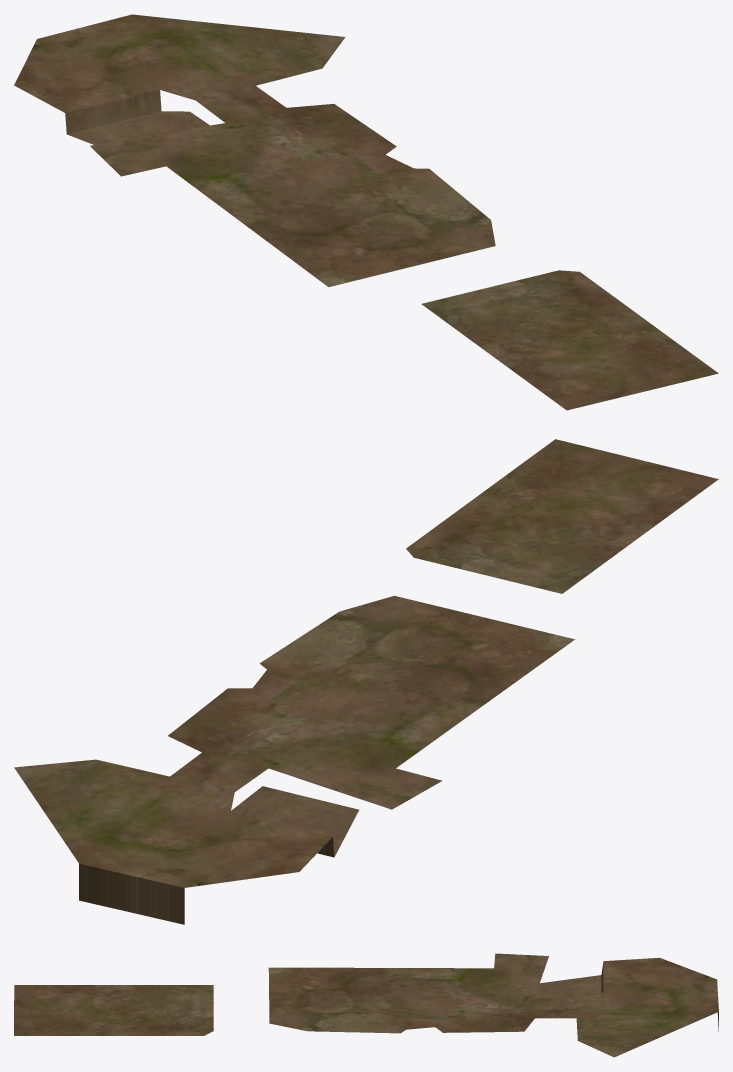
File: terrain_husong.FBX
The picture shows the model from 3 angles, top to bottom: view 1: azimuth 30°, elevation 25°; view 2: azimuth 150°, elevation 25°; view 3: azimuth 270°, elevation 25°; orthographic projection. The views are drawn at different scales.
Parts seen in each view (by area): view 1: terrain_husong; view 2: terrain_husong; view 3: terrain_husong.
Part boxes in pixels (box(x1,y1,x2,y2)): terrain_husong: box(14, 14, 718, 410); terrain_husong: box(14, 439, 718, 924); terrain_husong: box(14, 953, 718, 1057).
Bounding box in the file's own units: 92 × 9.68 × 263.
